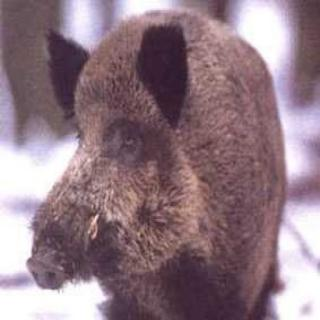Pig: (23, 1, 300, 320)
